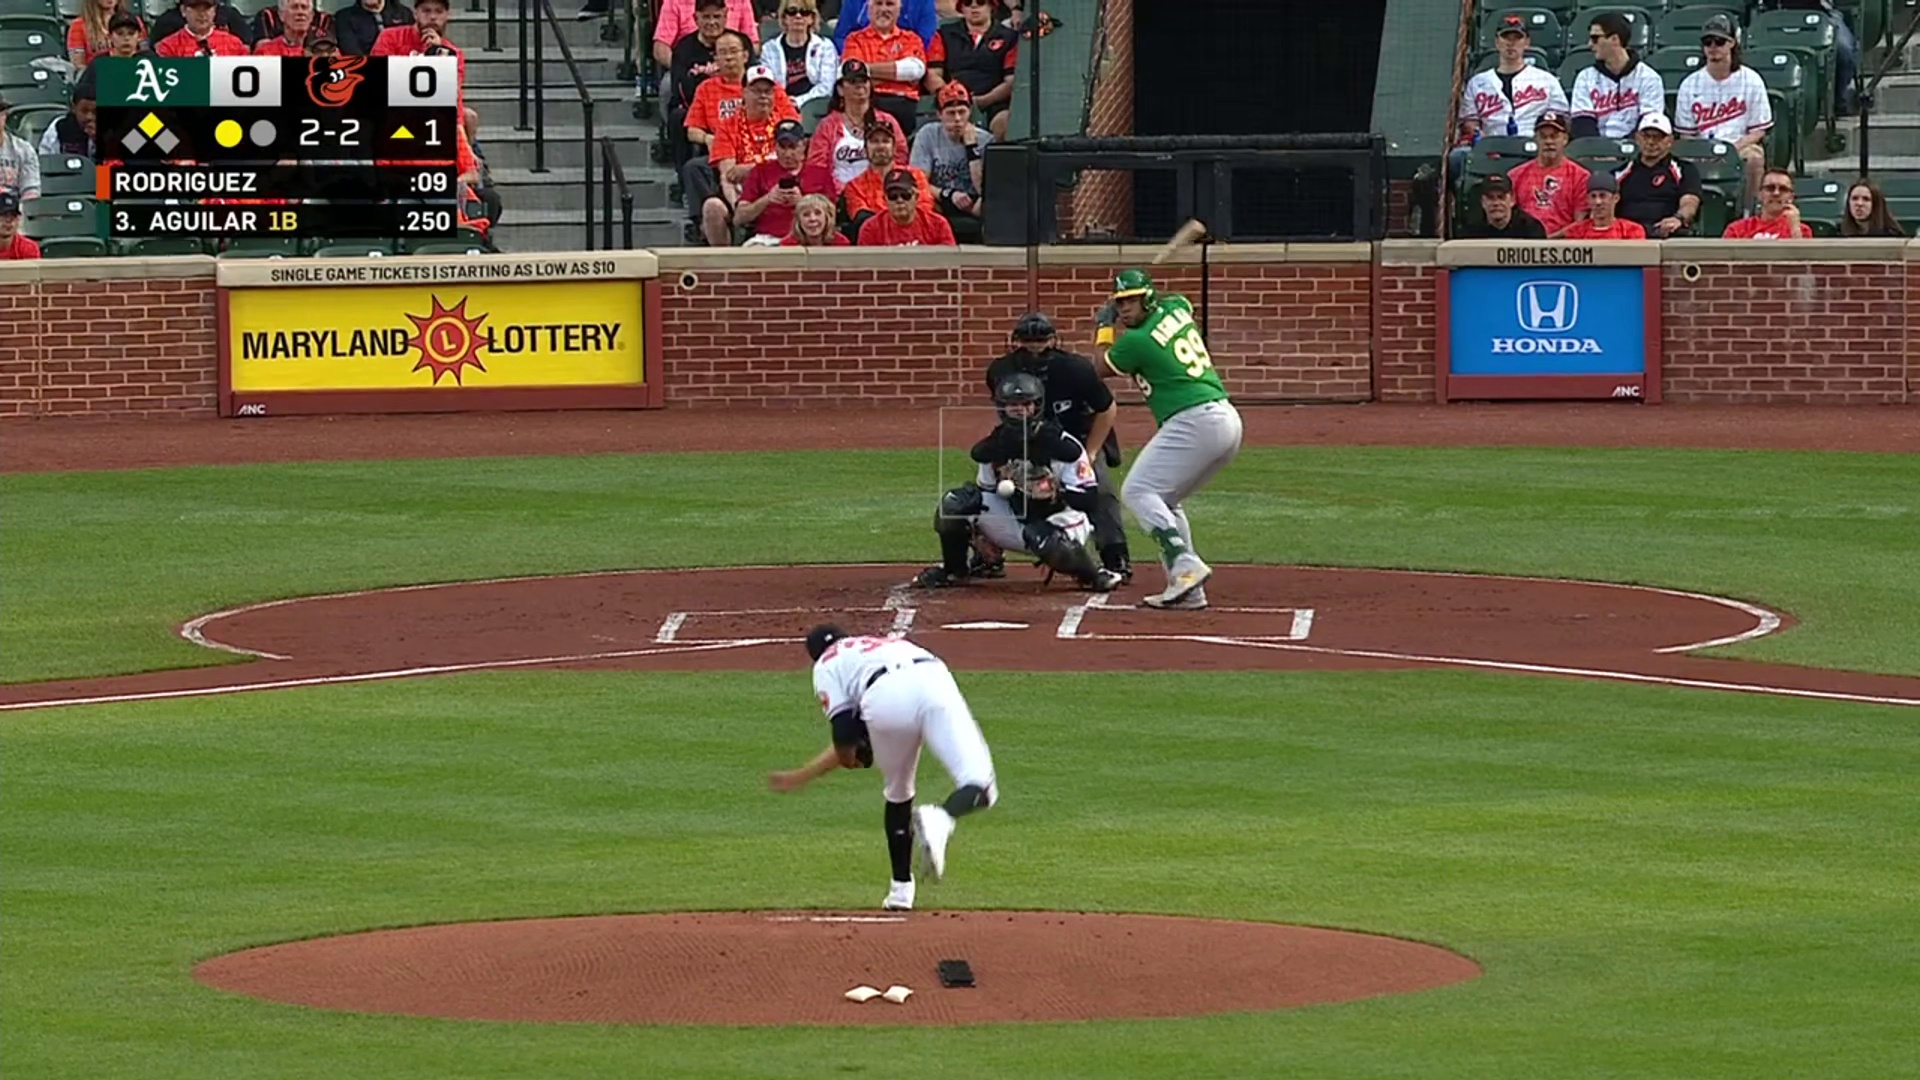baseball: (996, 477, 1013, 496)
